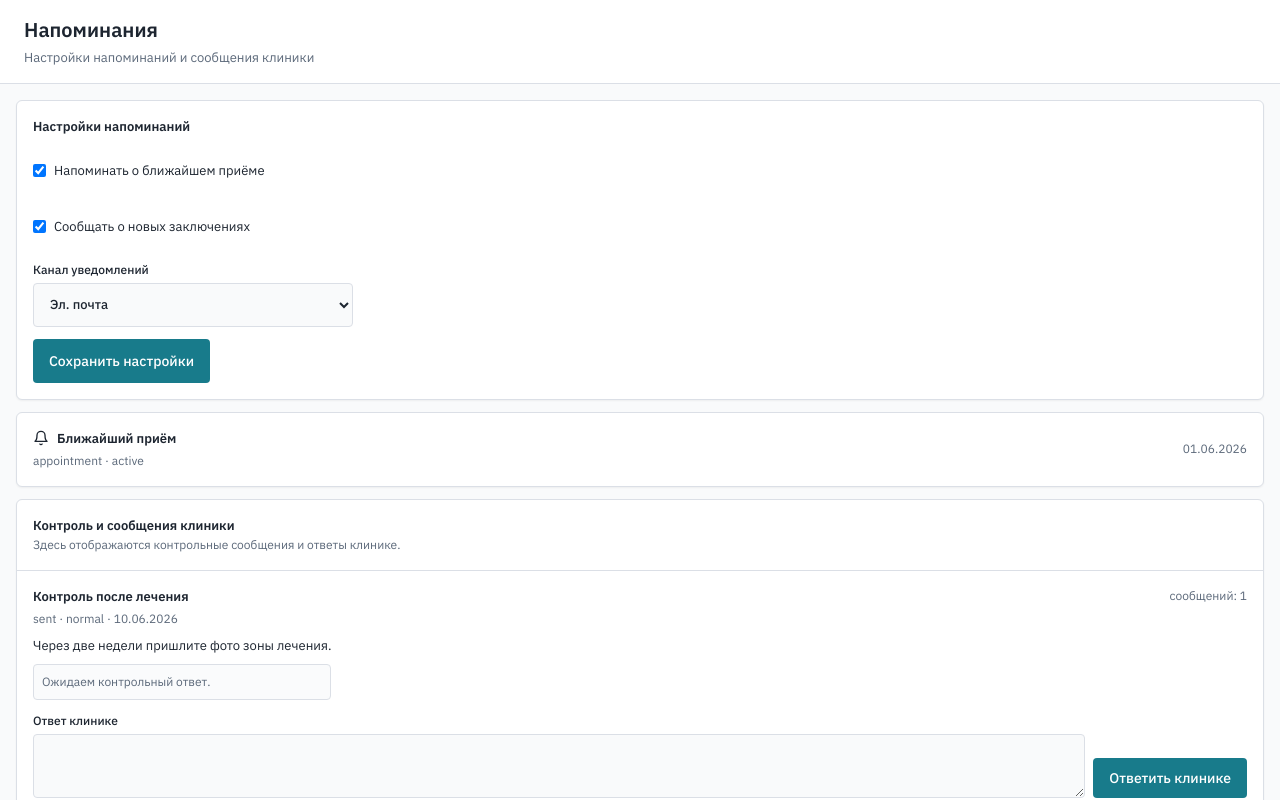
Test: Patient portal · Stage 5N production › shows patient-visible follow-ups and posts a clinic reply
This screenshot has width=1280, height=800.
Check: the text "Контроль после лечения" is shown, box [33,588,188,604]
Check: the text "Через две недели пришлите фото зоны лечения." is shown, box [33,636,331,656]
In the text box named "Ответ клинике по контролю": (559, 766) [33,734,1085,798], type "Фото отправлю завтра."
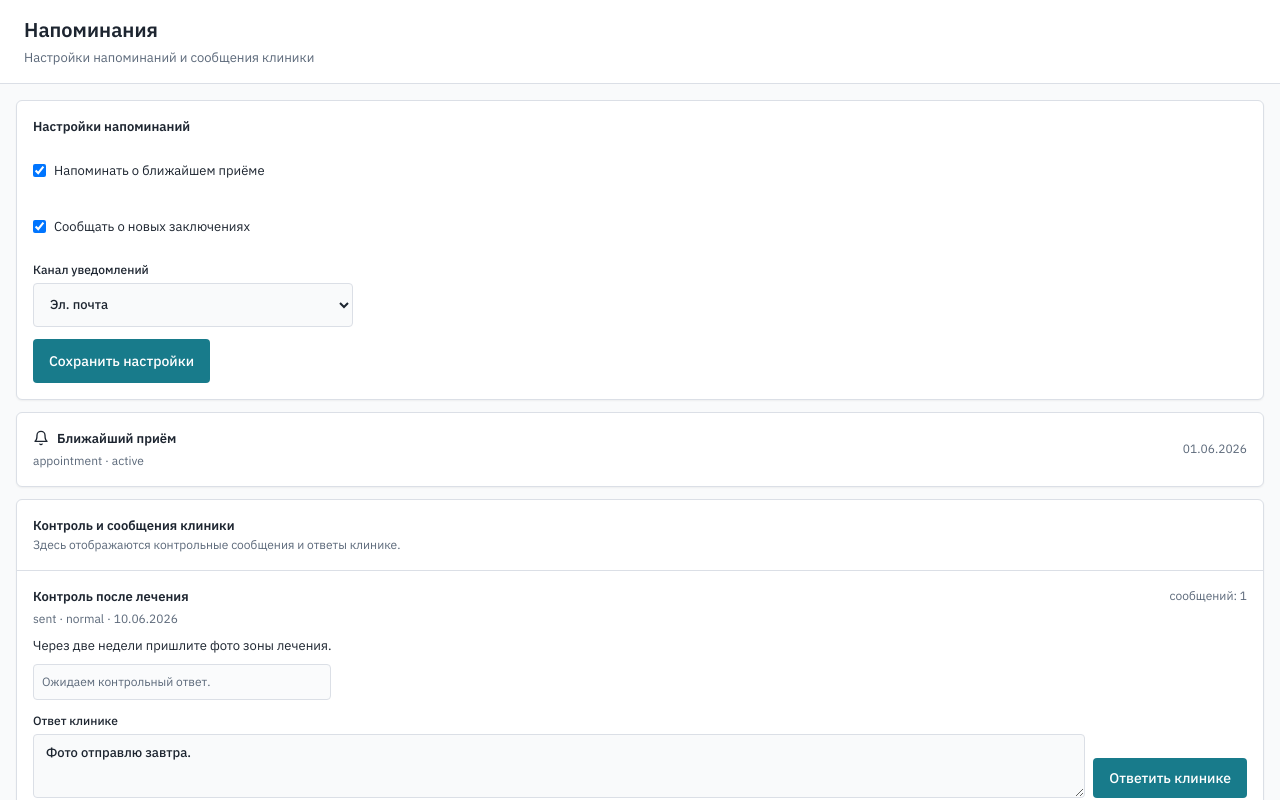
Click the button "Ответить клинике": (1170, 778) [1093,758,1247,798]
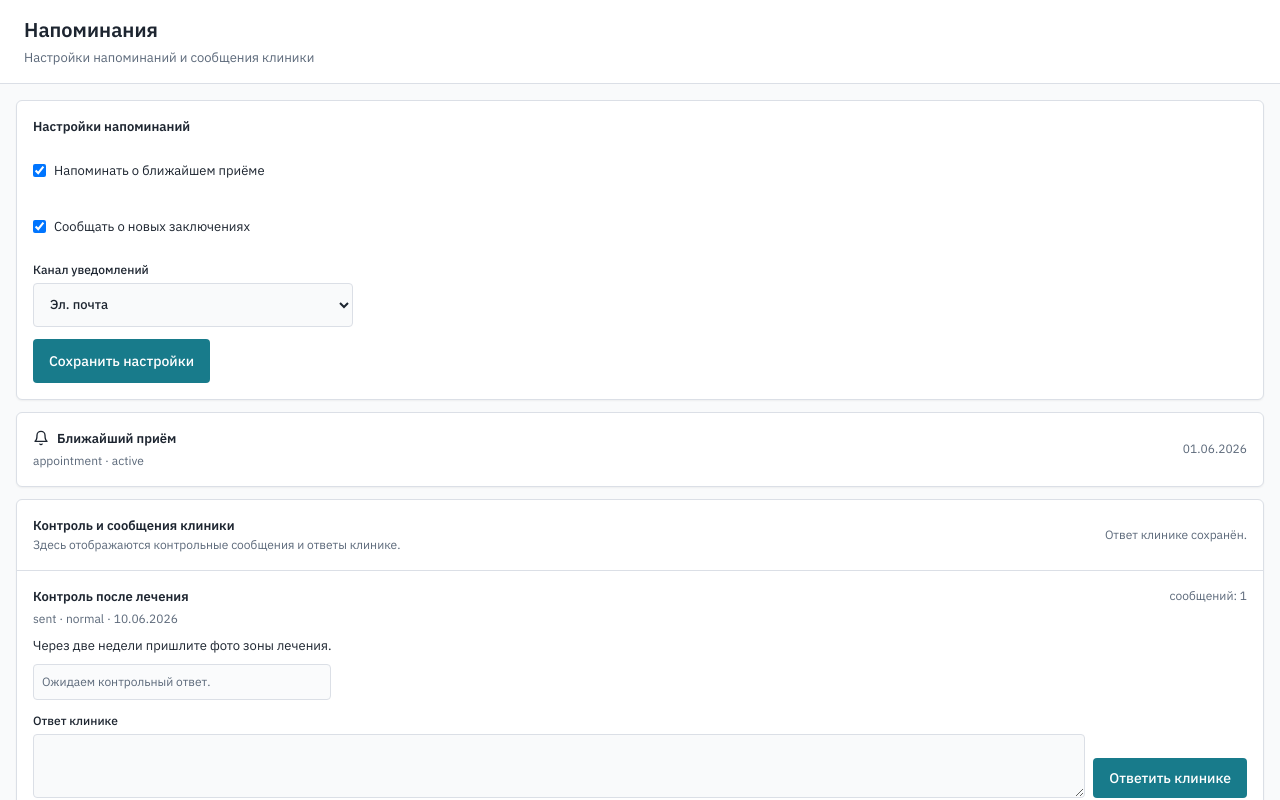
Check: the text "Ответ клинике сохранён." is shown, box [1105,526,1247,544]
